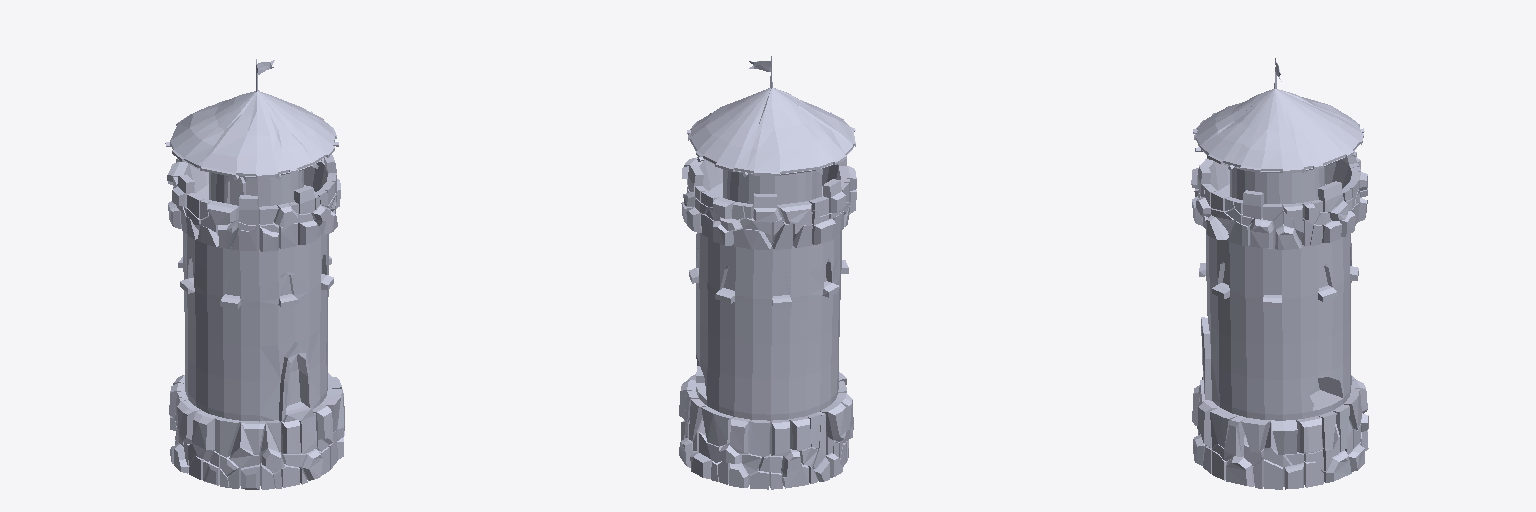
3 views of the same model, side by side, from view 1: azimuth 30°, elevation 25°; view 2: azimuth 150°, elevation 25°; view 3: azimuth 270°, elevation 25° (orthographic).
Visible parts, largest first — view 1: Castle_asset_CUCylinder.001; view 2: Castle_asset_CUCylinder.001; view 3: Castle_asset_CUCylinder.001.
Boxes of the visible parts, x1,y1,x2,y2 form: Castle_asset_CUCylinder.001: [165, 59, 344, 489]; Castle_asset_CUCylinder.001: [679, 56, 856, 489]; Castle_asset_CUCylinder.001: [1191, 58, 1368, 489].
Size of the model in its own units: 5.19 by 12.77 by 5.12.
1 materials, 1 textured.